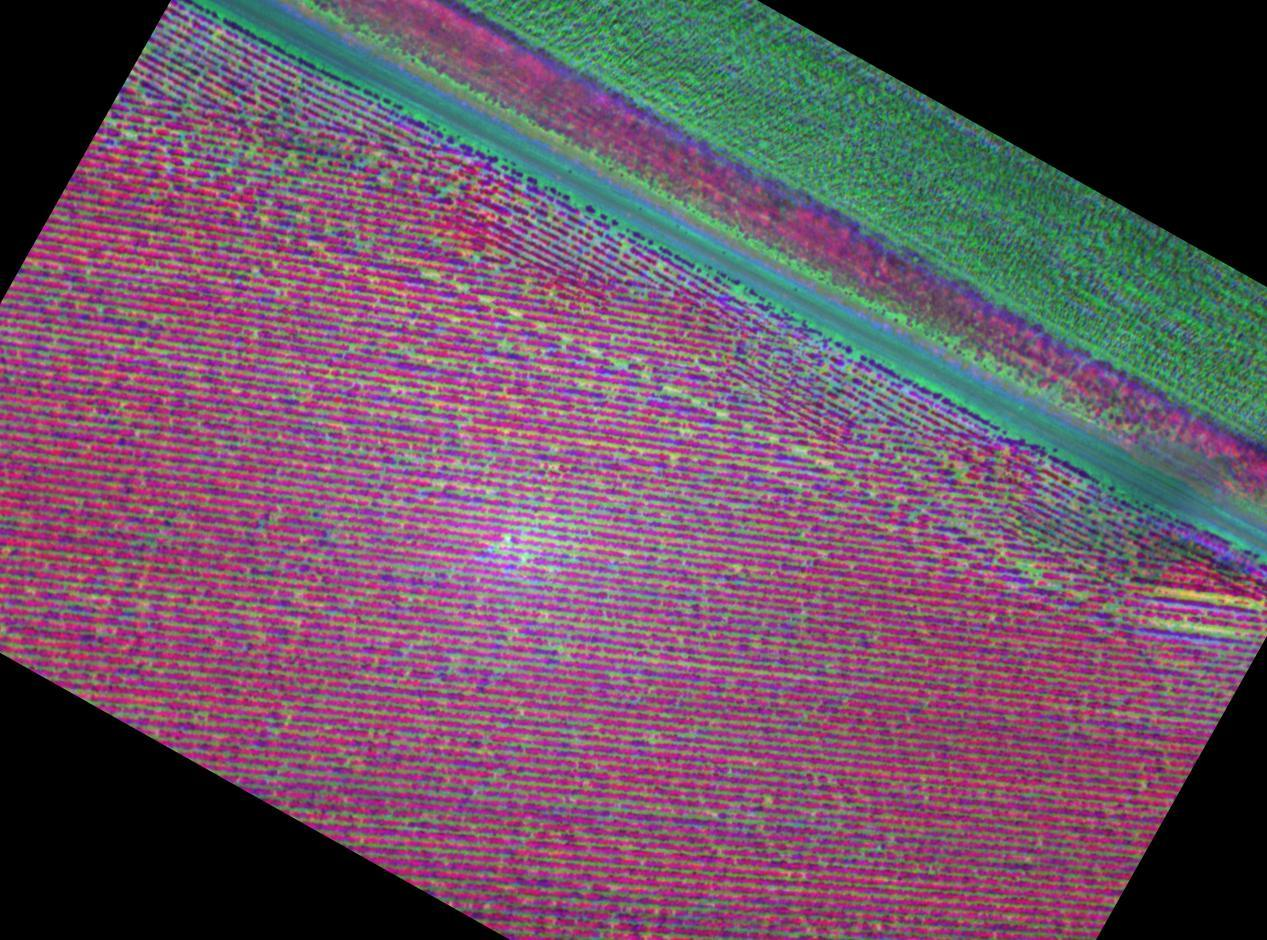dc: (444, 187, 448, 194), (256, 273, 260, 277), (544, 618, 548, 622), (507, 632, 511, 636), (766, 797, 770, 801), (116, 568, 120, 571), (450, 664, 453, 668), (650, 739, 653, 743), (295, 589, 298, 592), (751, 635, 754, 638), (204, 712, 207, 715), (643, 658, 646, 660), (877, 848, 879, 851), (792, 887, 795, 889), (830, 936, 833, 938)
